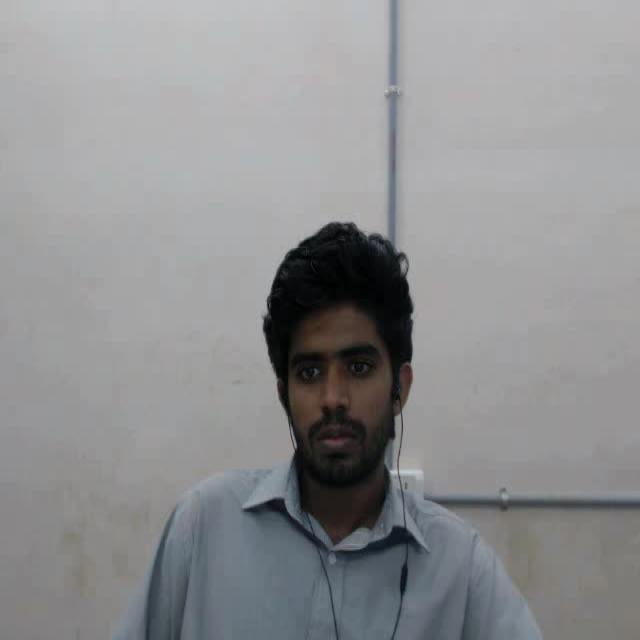Engaged: (242, 209, 458, 528)
